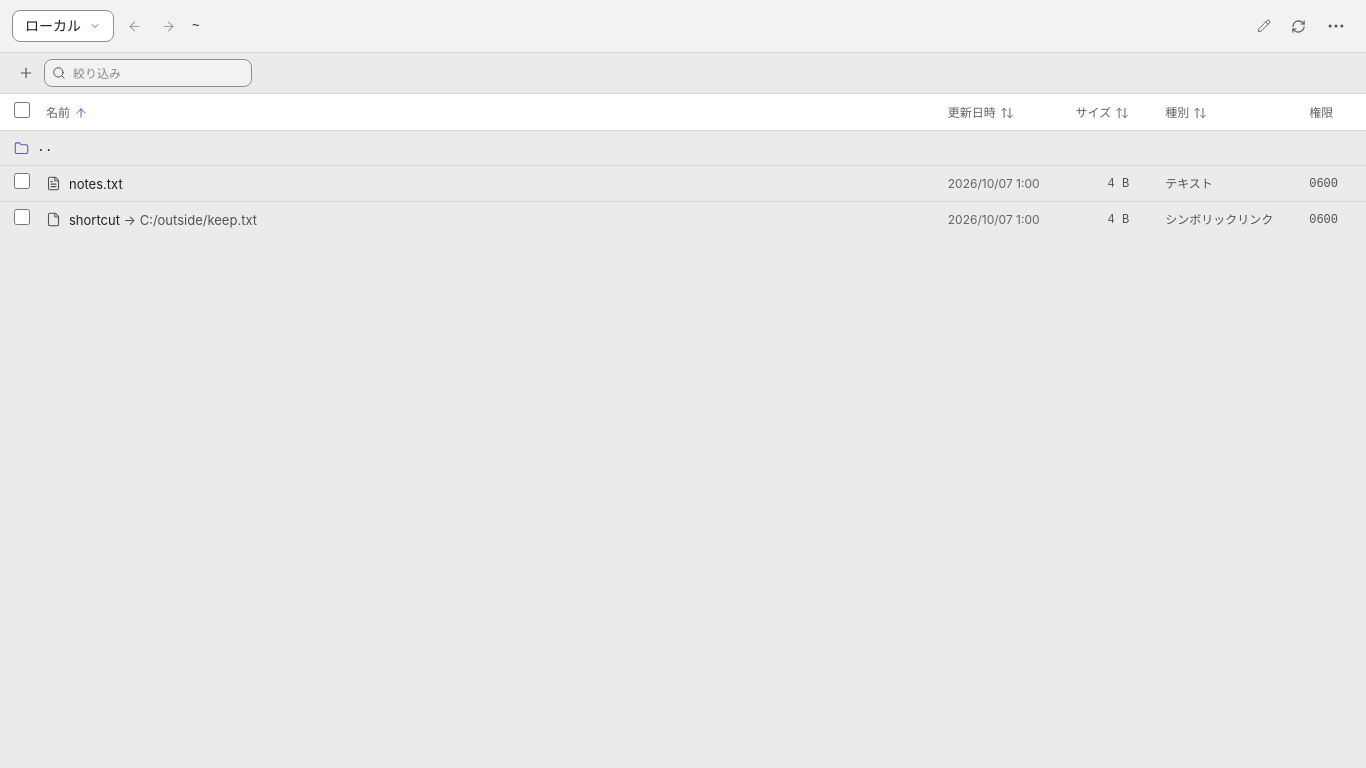
Test case: local entry actions through the shared pane › identifies the engine filesystem in the ja confirmation and cancels without mutations
Click the button "notes.txt". click: (96, 184)
box: [46,174,932,194]
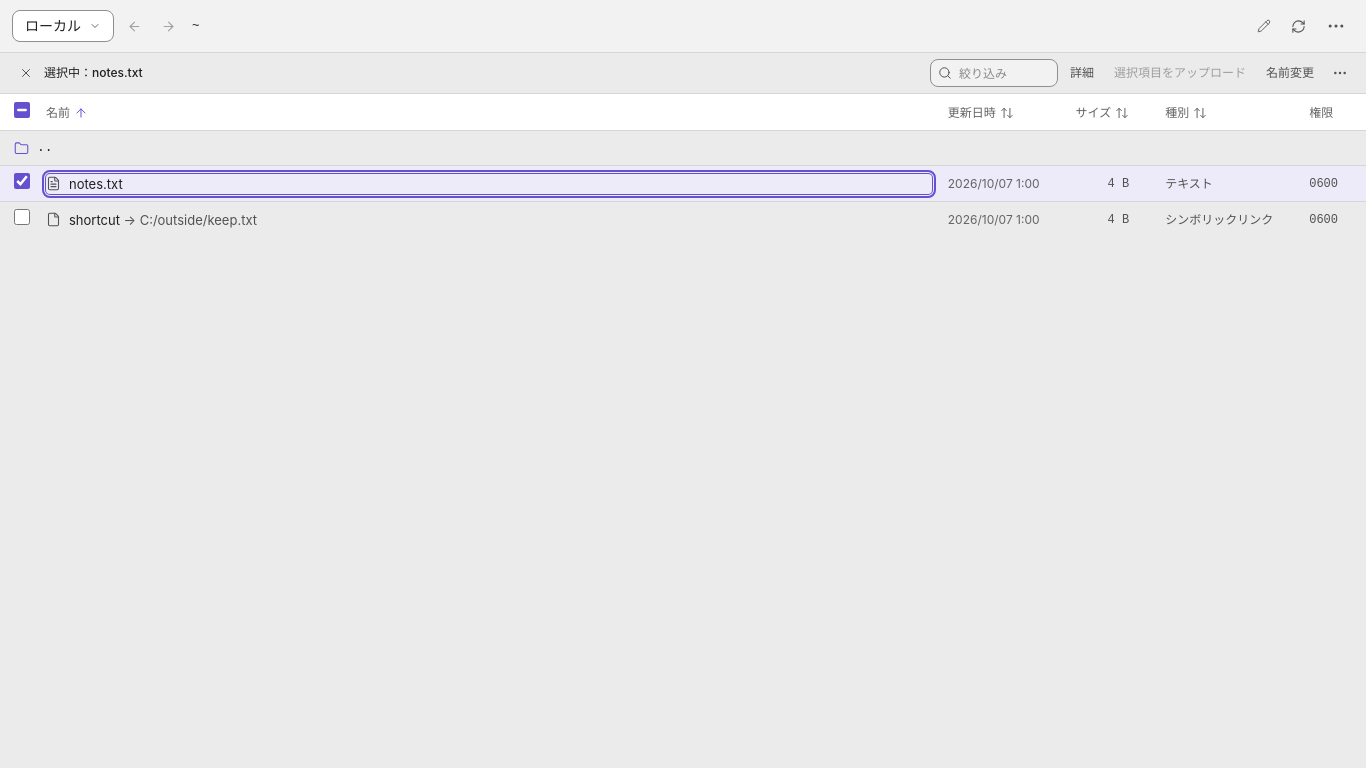
Click the button named "notes.txtの操作". click: (1340, 73)
box: [1326,59,1354,87]
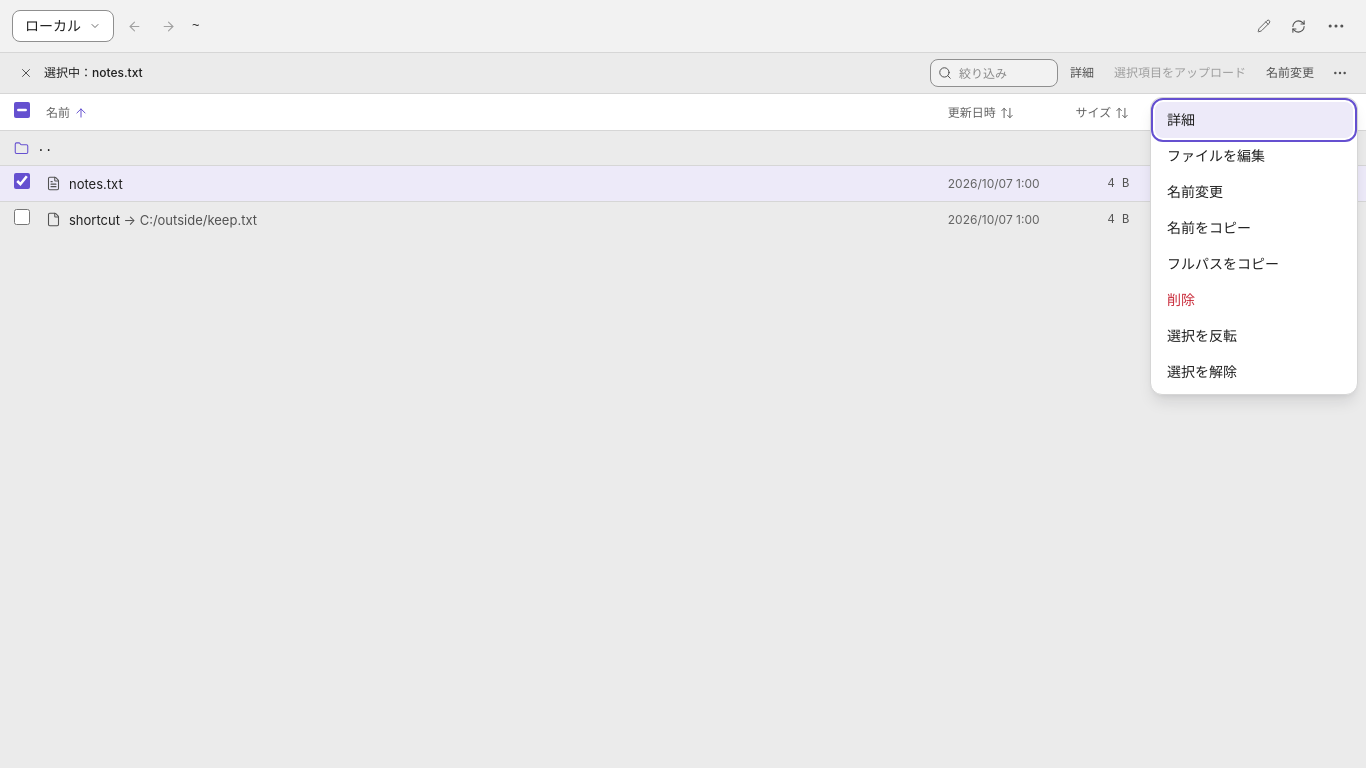
Click the menu item "削除". click: (1254, 300)
box: [1155,282,1353,318]
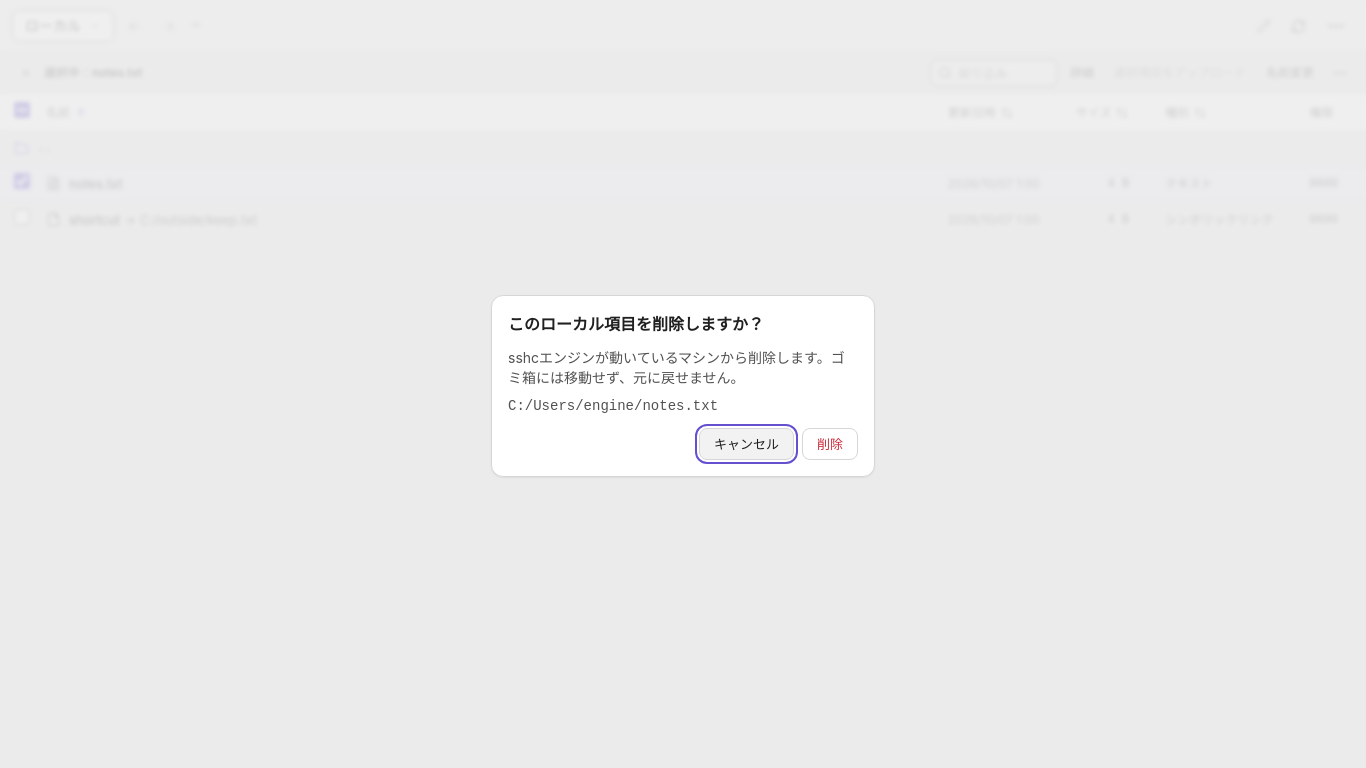
Expected: the dialog "このローカル項目を削除しますか？" shows "C:/Users/engine/notes.txt", [508,398,718,414]
Expected: the dialog "このローカル項目を削除しますか？" shows "sshcエンジンが動いているマシン", [508,349,845,386]
Click the button "キャンセル". click: (746, 444)
box: [699,428,794,460]
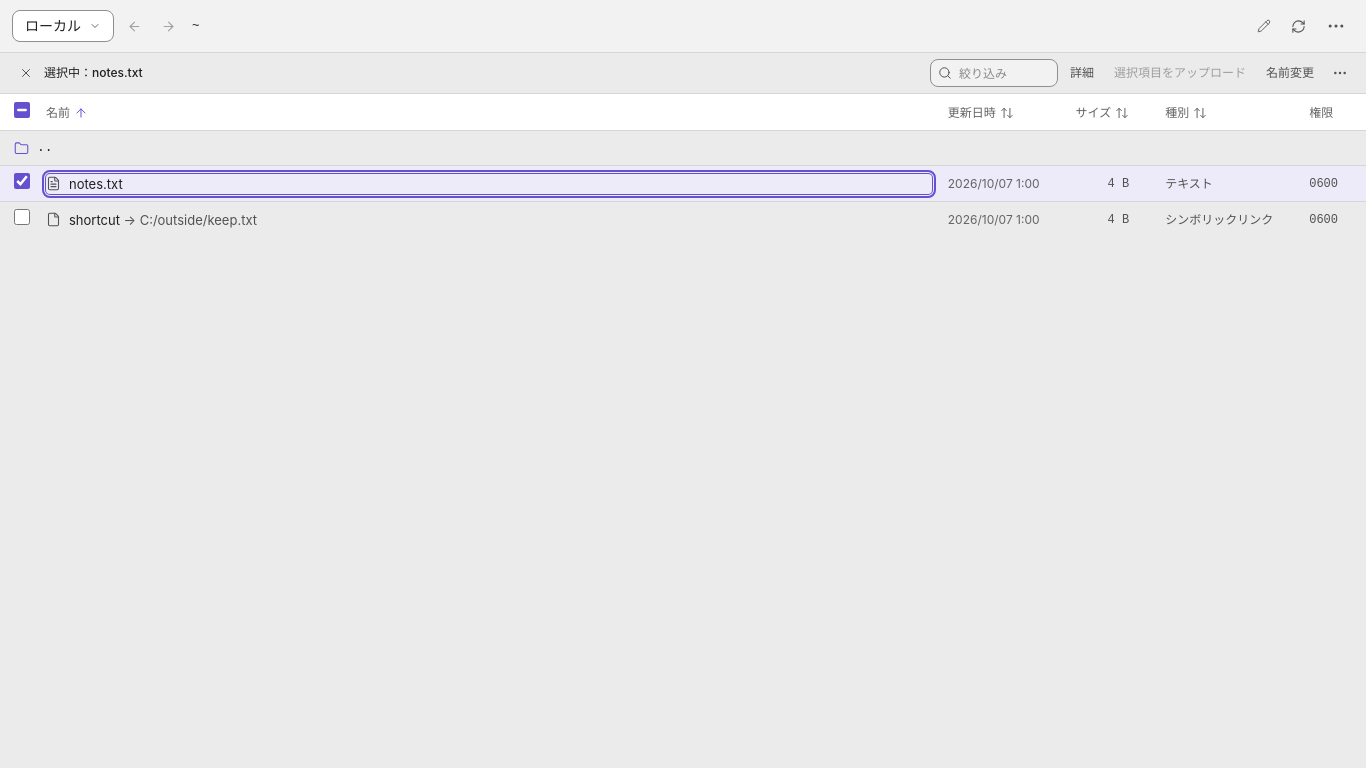
Expected: the dialog is gone
